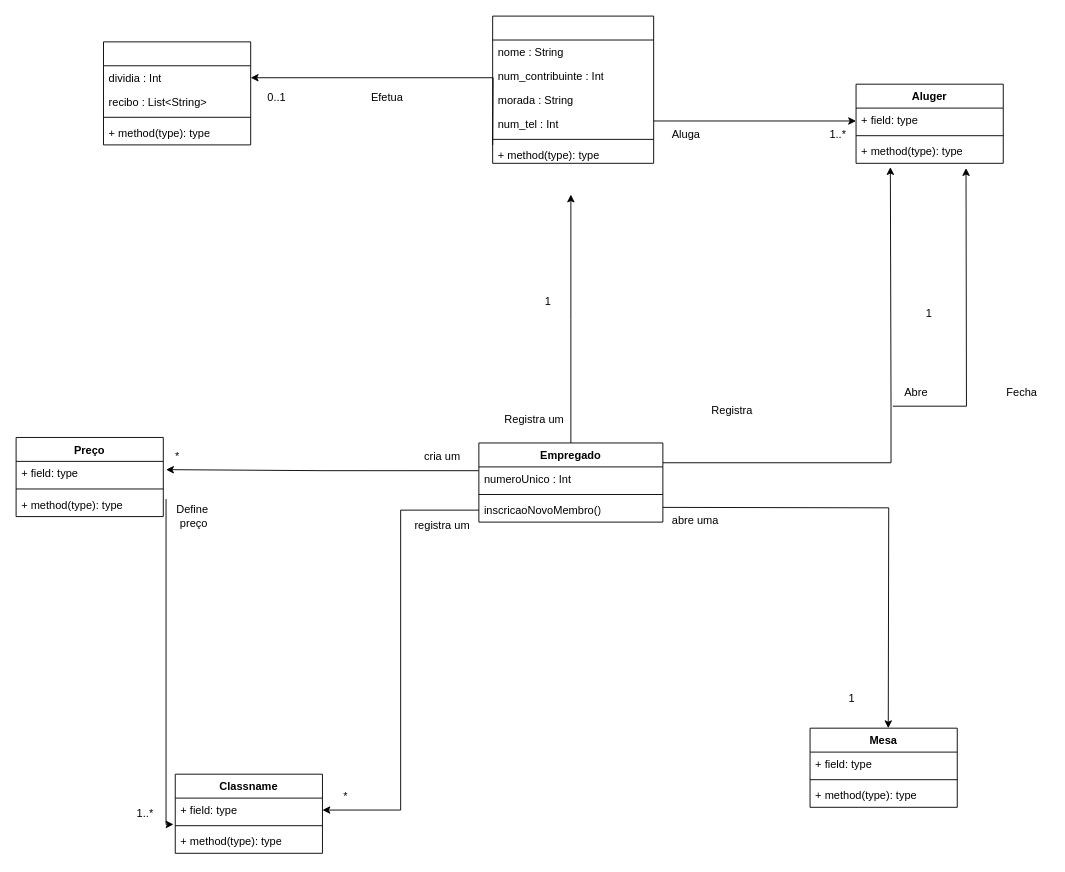
Some shapes in this 1065 by 872 pixel diagram are drawn without their labels. The shapes that lost their labels are listed below. From the top down, each one's box as (x1, y1, x2, y2) in pixels, then its label:
(103, 41, 251, 145): Pagamento
(492, 15, 654, 163): Membro
